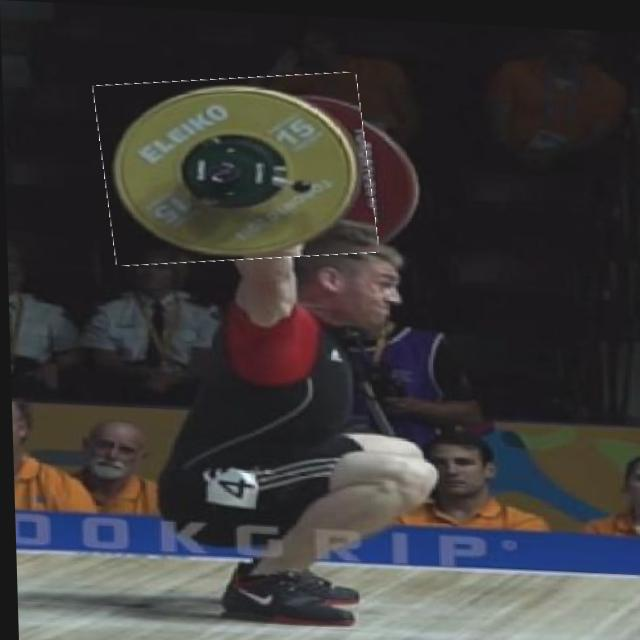barbell: (97, 66, 375, 270)
